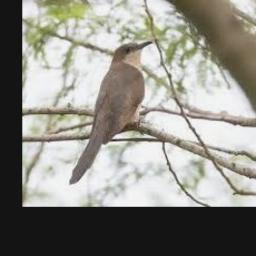Cuckoo: (69, 41, 152, 184)
